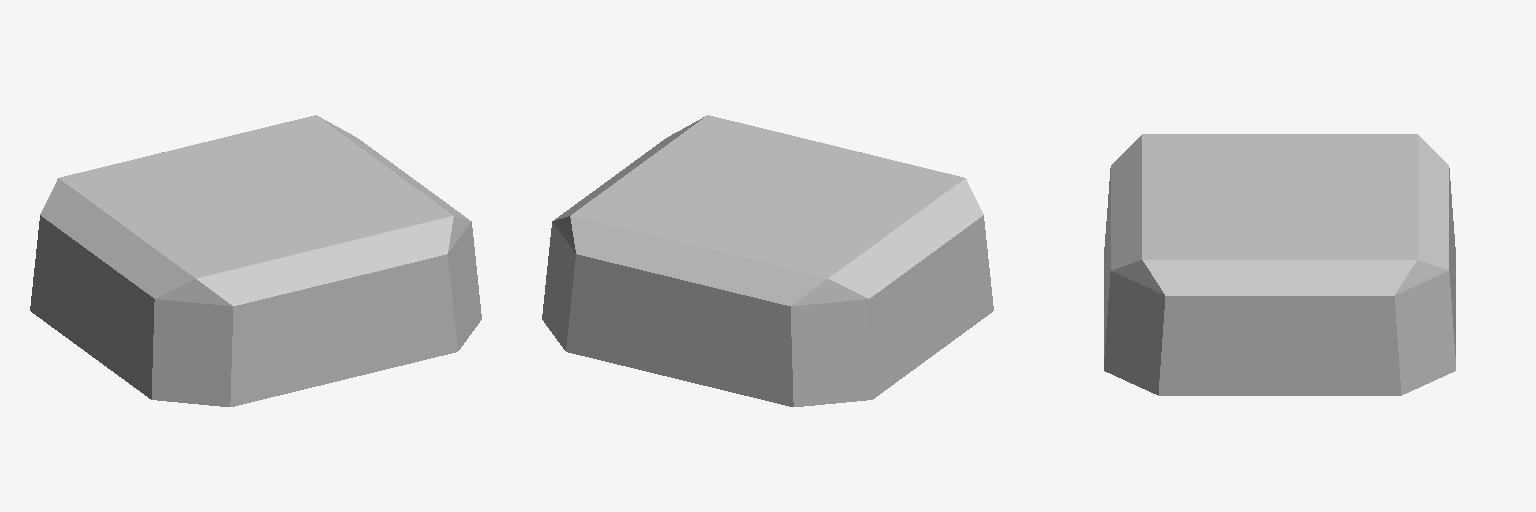
Rendered from turela.obj.
3 views of the same model, side by side, from view 1: azimuth 30°, elevation 25°; view 2: azimuth 150°, elevation 25°; view 3: azimuth 270°, elevation 25° (orthographic).
Parts seen in each view (by area): view 1: turela; view 2: turela; view 3: turela.
Boxes of the visible parts, x1=… form: turela: x1=30, y1=115, x2=481, y2=406; turela: x1=542, y1=115, x2=993, y2=406; turela: x1=1104, y1=134, x2=1455, y2=395.
Bounding box in the file's own units: 0.7516 × 0.257 × 0.6949.